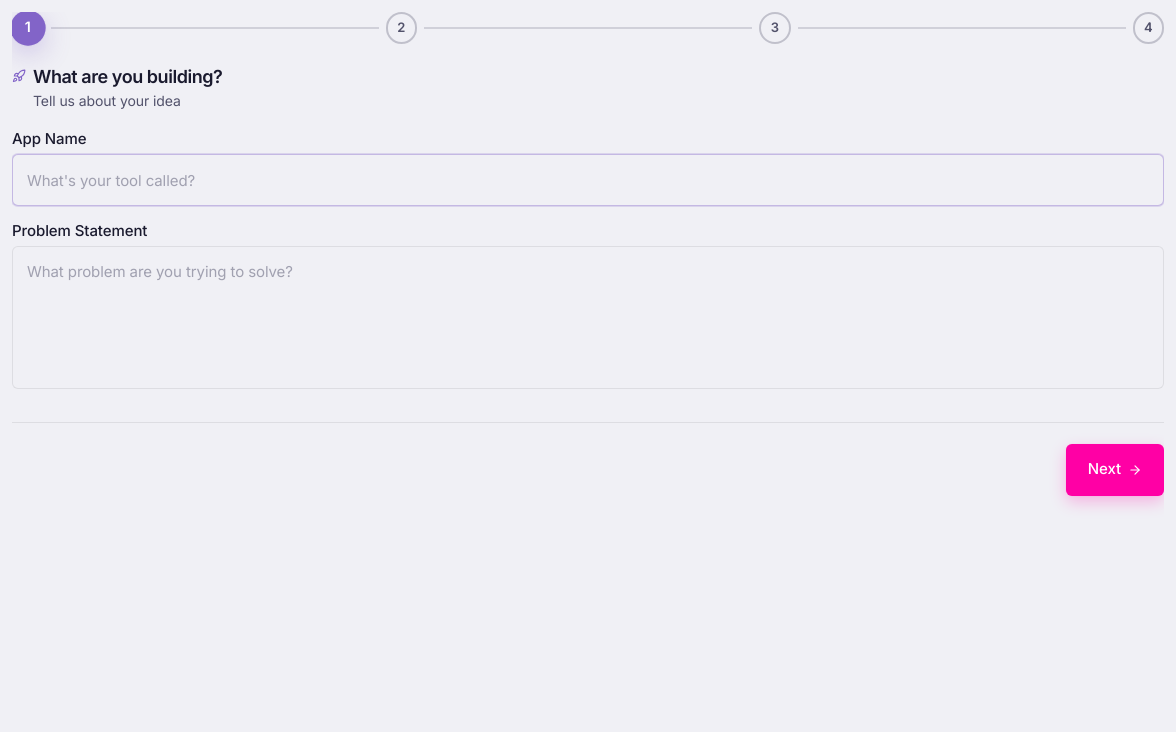
Test: RegistrationForm › Step 1: What are you building? › shows validation errors when clicking Next with empty fields
Click the button "Next". click: (1115,470)
box: x1=1066 y1=444 x2=1164 y2=496
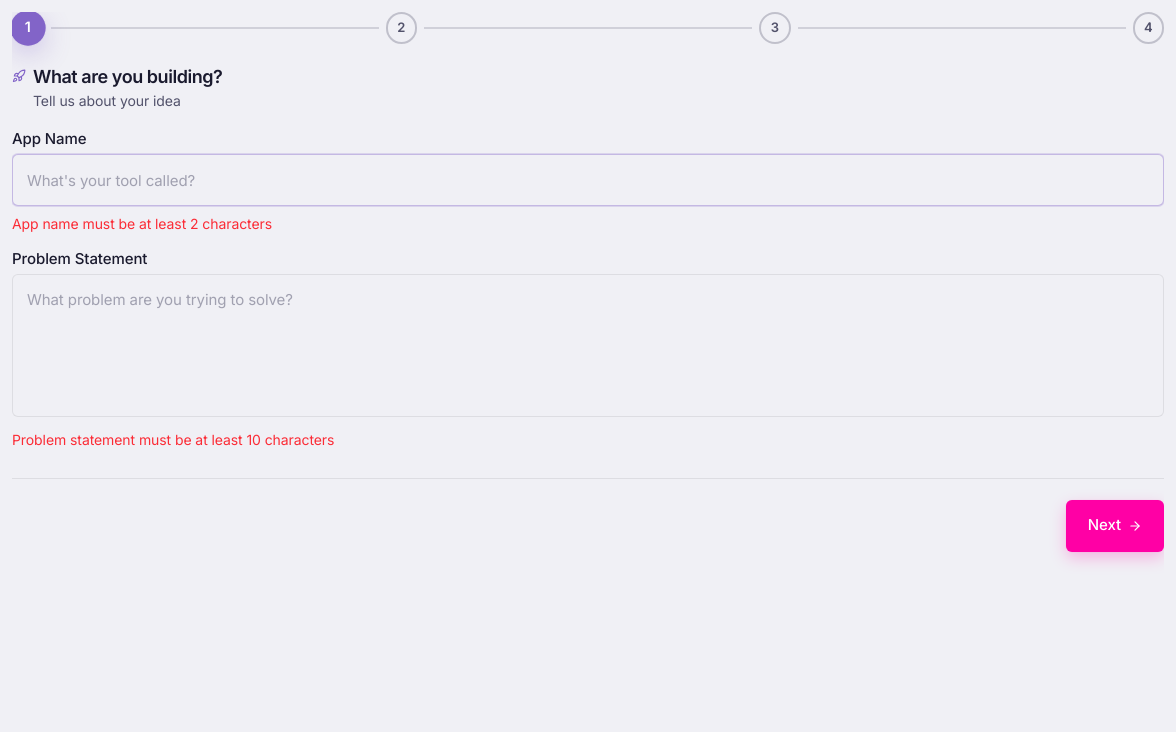
Expected: the field labelled "App Name" is shown, x1=12 y1=154 x2=1164 y2=206
Now the text "App name must be at least 2 characters" is shown, box x1=12 y1=215 x2=272 y2=232
